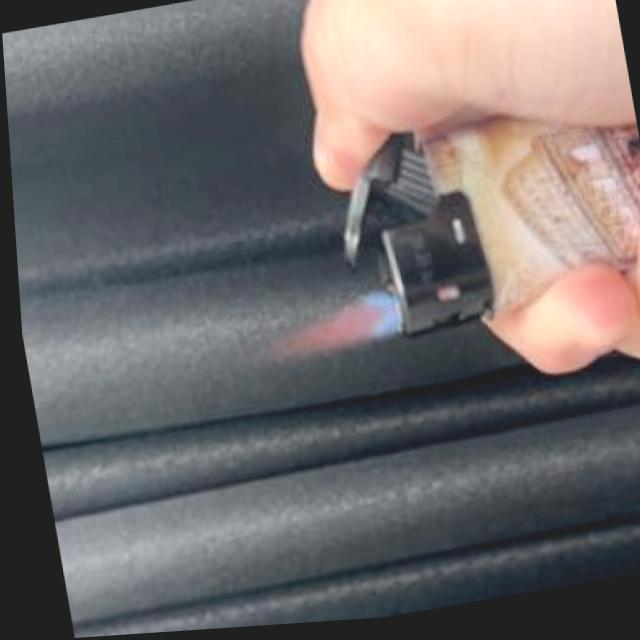fire: (257, 291, 401, 372)
